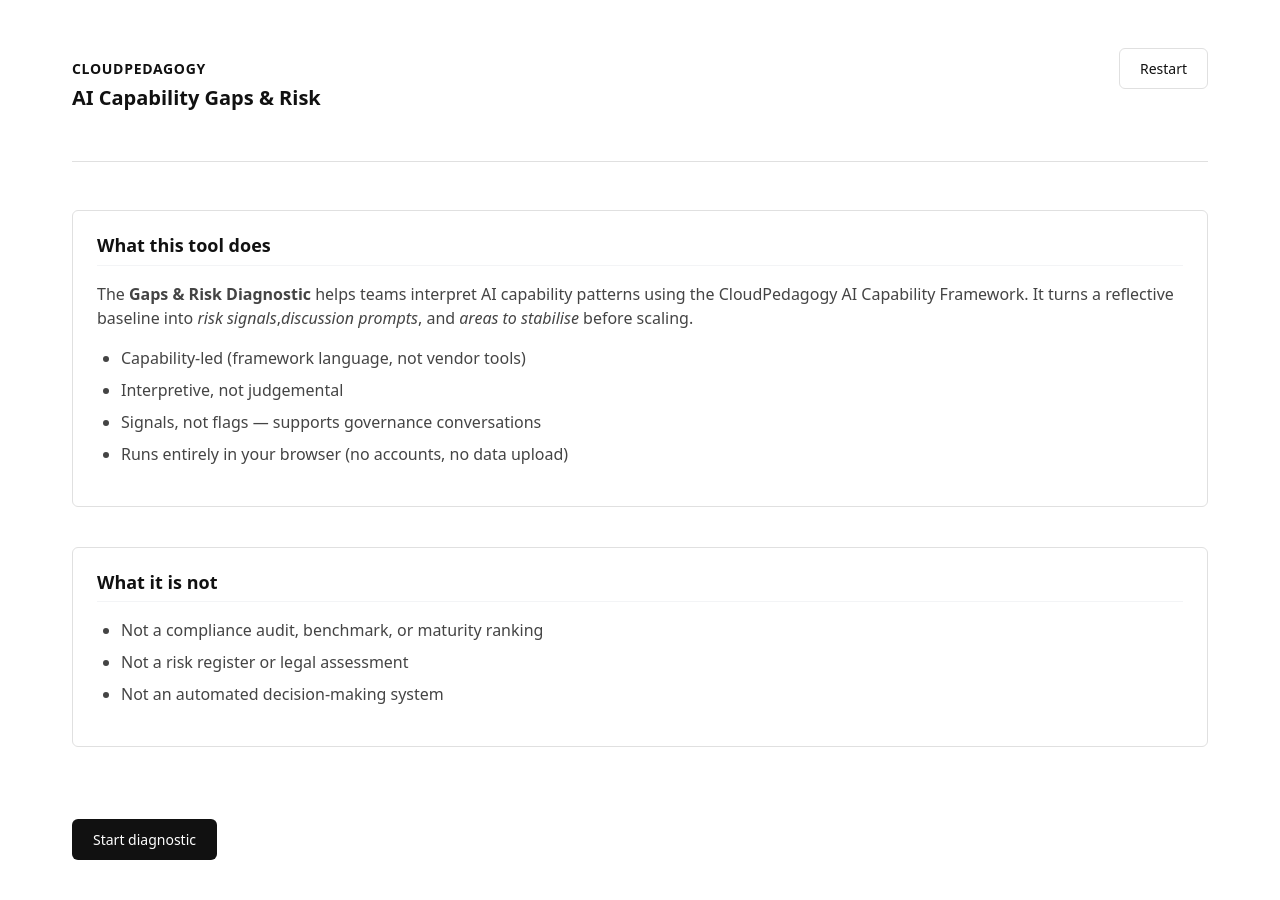
Test: Application End-to-End Workflow & Navigation › navigates back to IntroView when clicking Back in DiagnosticView
The width and height of the screenshot is (1280, 900).
Click the button "Start diagnostic" at (144, 840), box [72, 819, 217, 860]
(page scrolled)
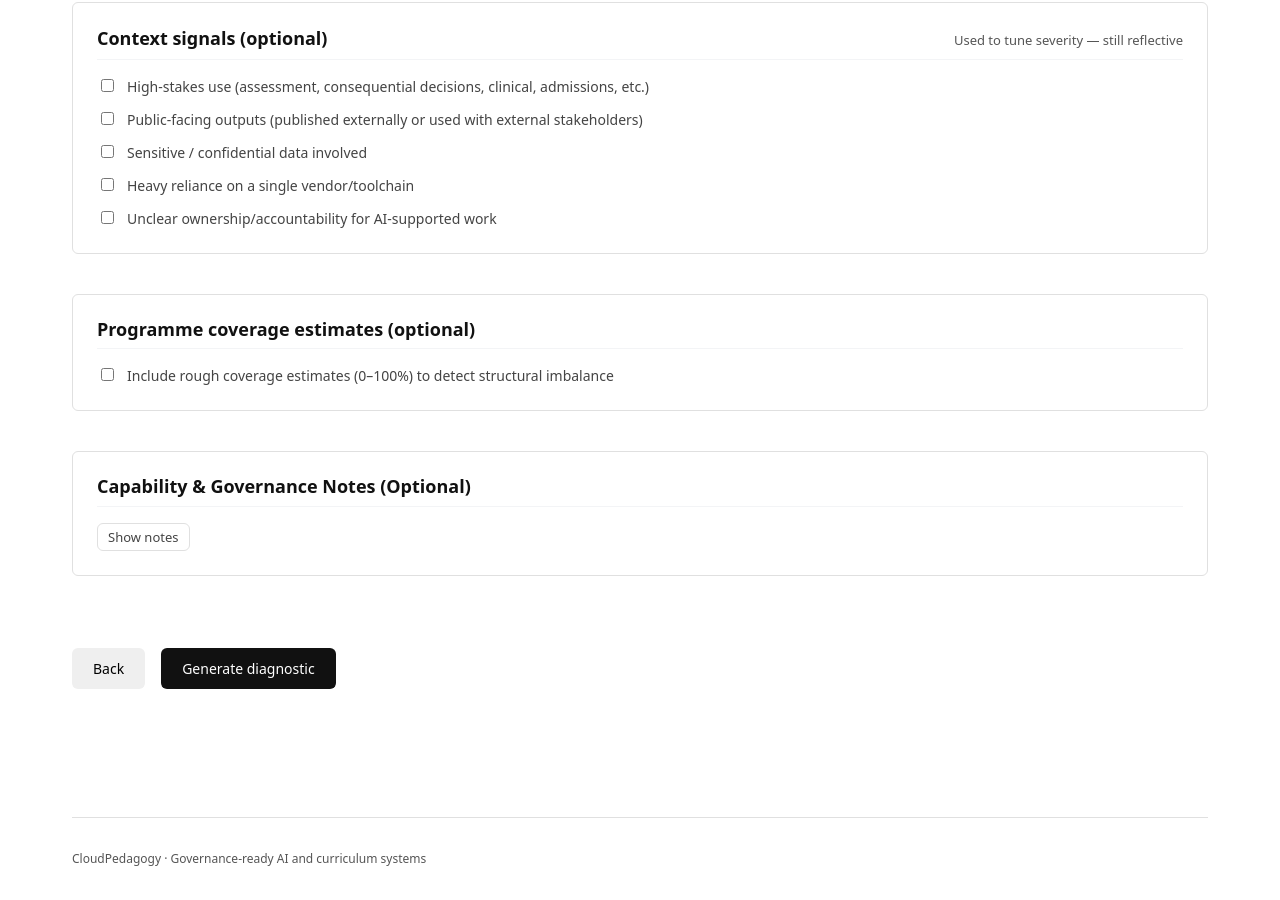
Click the button "Back" at (109, 668), box [72, 648, 145, 689]
(page scrolled)
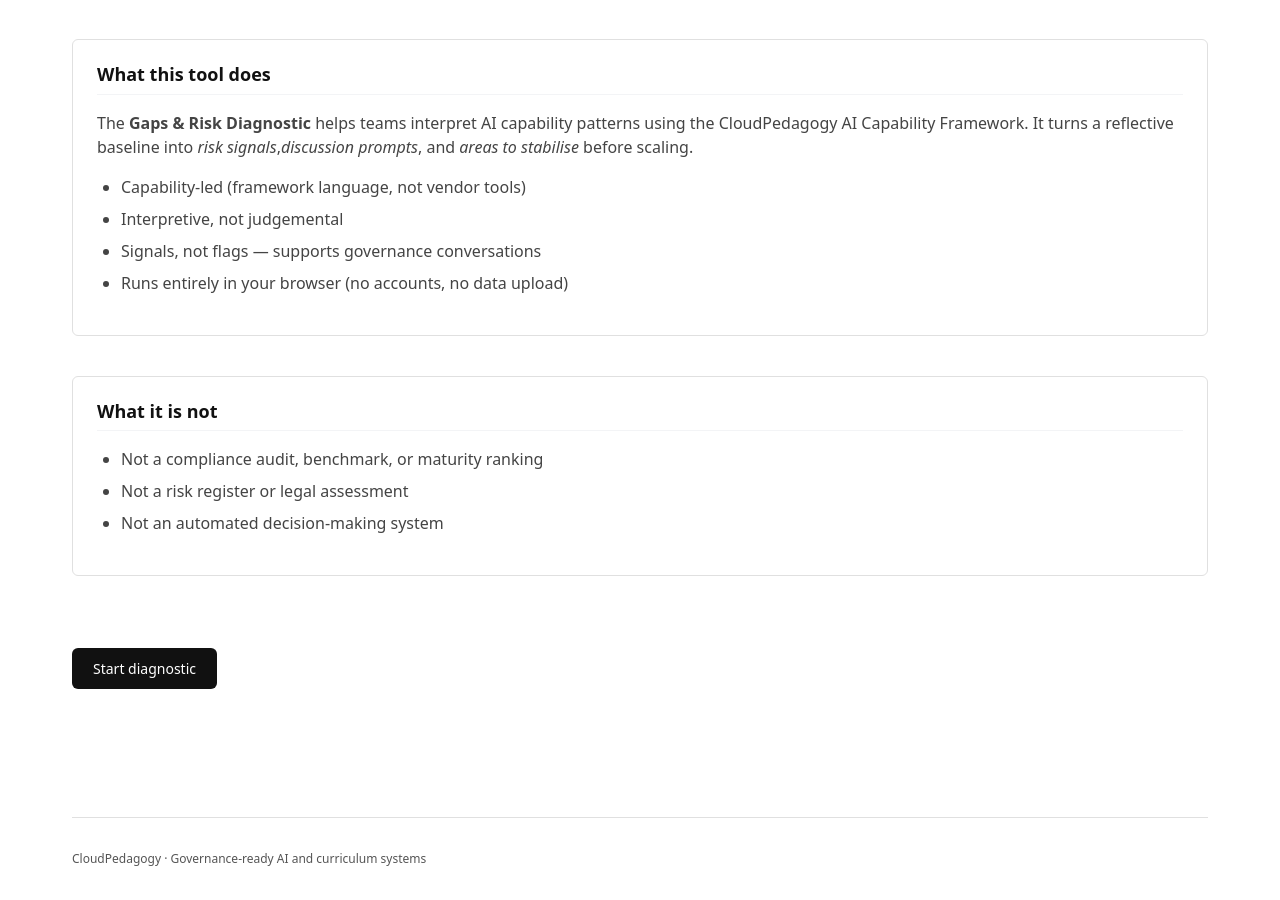
Check: the heading "What this tool does" is shown, box [97, 64, 271, 86]
